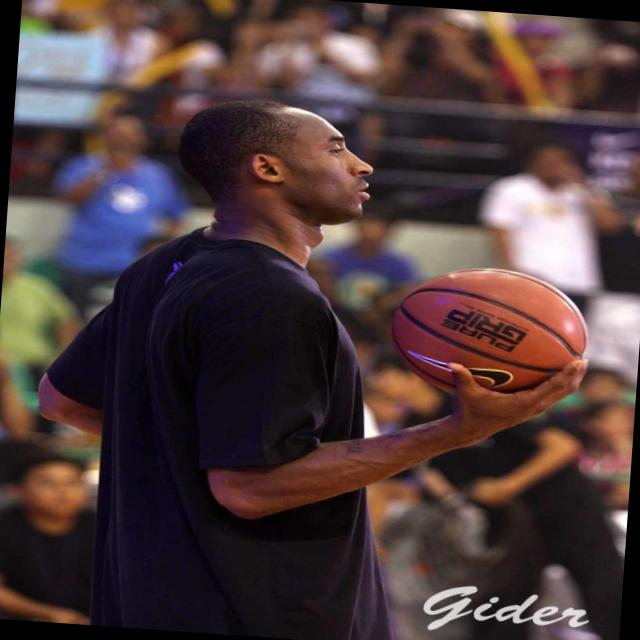Ball: (385, 262, 592, 404)
